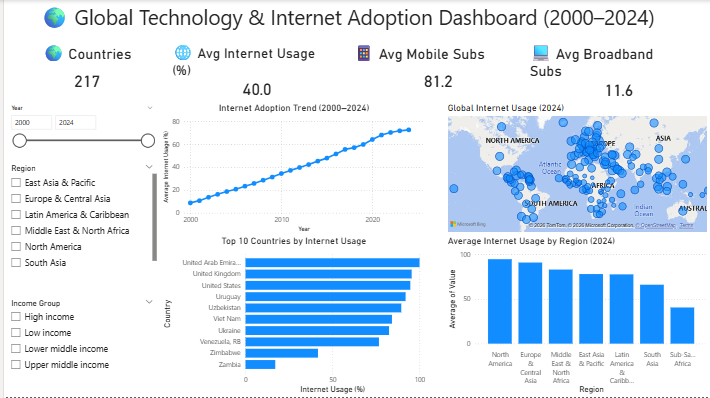

The page's visual inventory and layout, read from the dashboard file:
{"tool":"powerbi","page":{"name":"Page 1","canvas":[1280,720],"ordinal":0},"visuals":[{"type":"card","title":"🌍 Countries","fields":{"Values":["worldbank_dashboard_final.Number of Countries"]},"box":[0,74.5,301,110.4],"z":0},{"type":"card","title":"📱 Avg Mobile Subs","fields":{"Values":["worldbank_dashboard_final.Average Mobile Subscriptions"]},"box":[627.8,74.5,319.6,110.4],"z":1000},{"type":"card","title":"💻 Avg Broadband Subs","fields":{"Values":["worldbank_dashboard_final.Average Broadband Subscriptions"]},"box":[947.5,74.5,332.5,110.4],"z":2000},{"type":"card","title":"🌐 Avg Internet Usage (%)","fields":{"Values":["worldbank_dashboard_final.Average Internet Usage"]},"box":[301,74.5,315.3,110.4],"z":3000},{"type":"textbox","box":[0,0,1280,74.5],"z":4000},{"type":"lineChart","title":"Internet Adoption Trend (2000–2024)","fields":{"Category":["worldbank_dashboard_final.Year"],"Y":["Avg(worldbank_dashboard_final.Value)"]},"box":[282.2,185.6,485.6,240],"z":5000},{"type":"clusteredBarChart","title":"Top 10 Countries by Internet Usage","fields":{"Category":["worldbank_dashboard_final.Country Name"],"Y":["Avg(worldbank_dashboard_final.Value)"]},"box":[282.2,425.6,485.6,293.3],"z":6000},{"type":"slicer","fields":{"Values":["worldbank_dashboard_final.Year"]},"box":[0,185.7,282.2,105.6],"z":7000},{"type":"slicer","fields":{"Values":["worldbank_dashboard_final.Region"]},"box":[0,291.3,282.2,207.6],"z":8000},{"type":"slicer","fields":{"Values":["worldbank_dashboard_final.Income Group"]},"box":[0,537.1,282.2,182.1],"z":9000},{"type":"map","title":"Global Internet Usage (2024)","fields":{"Category":["worldbank_dashboard_final.Country Name"],"Size":["Sum(worldbank_dashboard_final.Value)"]},"box":[799.7,184.5,480,240.9],"z":11000},{"type":"clusteredColumnChart","title":"Average Internet Usage by Region (2024)","fields":{"Category":["worldbank_dashboard_final.Region"],"Y":["Avg(worldbank_dashboard_final.Value)"]},"box":[800,426,480,293],"z":11001}]}

Visuals, with their boxes in screenshot pixels (x1, y1, x2, y2), scaled from the page's 1280x720 canvas onto the 710x398 screenshot:
"🌍 Countries" card: 0, 41, 167, 102
"📱 Avg Mobile Subs" card: 348, 41, 526, 102
"💻 Avg Broadband Subs" card: 526, 41, 709, 102
"🌐 Avg Internet Usage (%)" card: 167, 41, 342, 102
textbox: 0, 0, 709, 41
"Internet Adoption Trend (2000–2024)" lineChart: 157, 103, 426, 235
"Top 10 Countries by Internet Usage" clusteredBarChart: 157, 235, 426, 397
slicer - worldbank_dashboard_final.Year: 0, 103, 157, 161
slicer - worldbank_dashboard_final.Region: 0, 161, 157, 276
slicer - worldbank_dashboard_final.Income Group: 0, 297, 157, 397
"Global Internet Usage (2024)" map: 444, 102, 709, 235
"Average Internet Usage by Region (2024)" clusteredColumnChart: 444, 235, 709, 397
